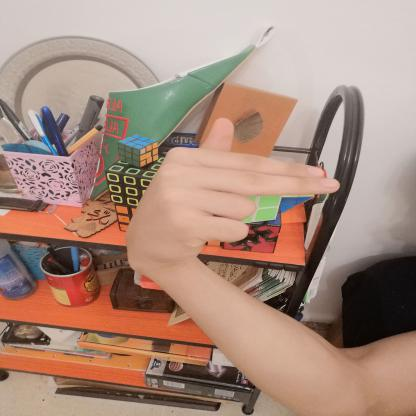GHAYN: (115, 111, 349, 285)
